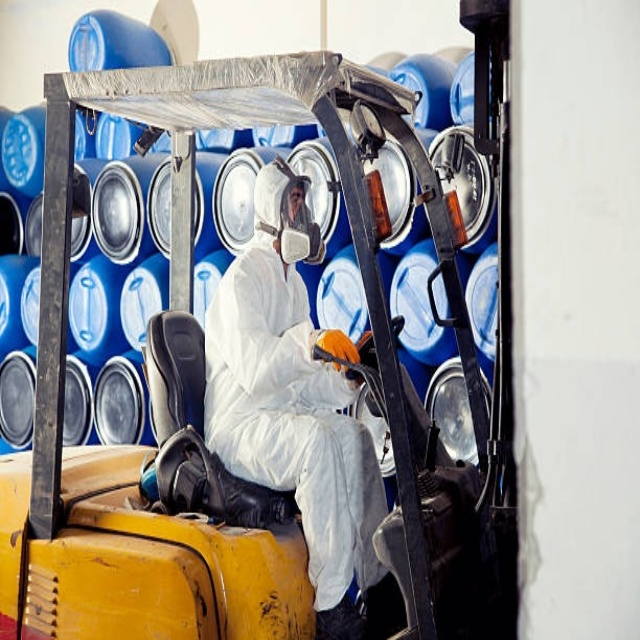Guantes: (315, 329, 361, 378)
Mascara: (284, 176, 321, 264)
